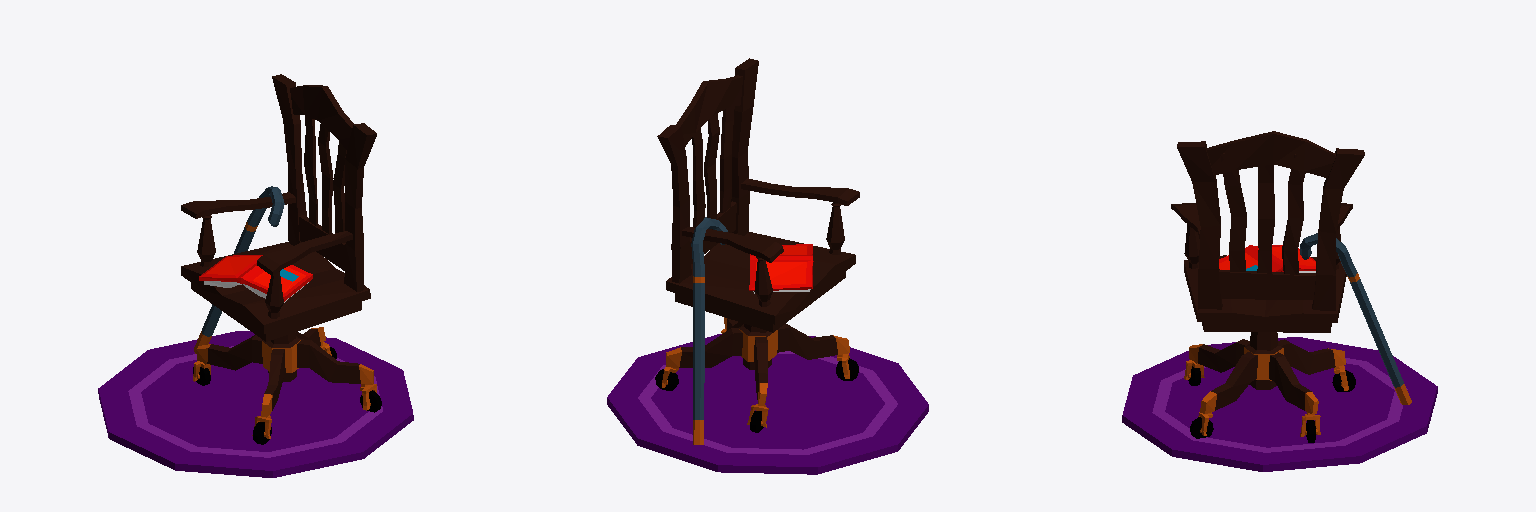
File: Captain Chair.obj
3 views of the same model, side by side, from view 1: azimuth 30°, elevation 25°; view 2: azimuth 150°, elevation 25°; view 3: azimuth 270°, elevation 25° (orthographic).
Parts seen in each view (by area): view 1: group[number redacted]; view 2: group[number redacted]; view 3: group[number redacted].
Part boxes in pixels (x1,y1,x2,y2): group[number redacted]: (98, 74, 413, 477); group[number redacted]: (607, 58, 928, 474); group[number redacted]: (1122, 131, 1437, 471).
Bounding box in the file's own units: 1.62 × 1.74 × 1.59.